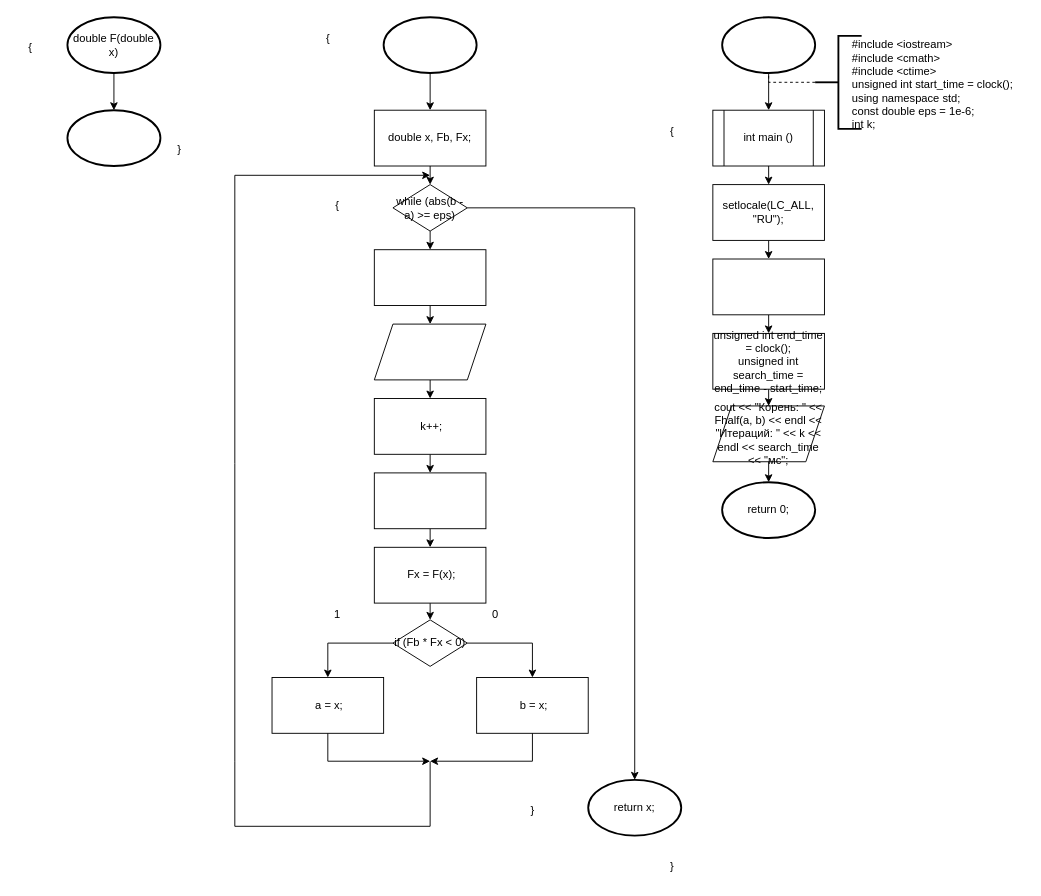
Some shapes in this 1041 by 896 pixel diagram are drawn without their labels. The centre of each missing label's shape, as x and y in pixels:
cout << x << endl;: pixel 429 351
double a = 0; double b = 2;: pixel 768 286
double Fhalf(double a, double b): pixel 429 44
Fb = F(b);: pixel 429 500
return 0.25 * pow(x, 3) + x - 1.2502;: pixel 113 137
x = (a + b) / 2;: pixel 429 277
Начало: pixel 768 44
